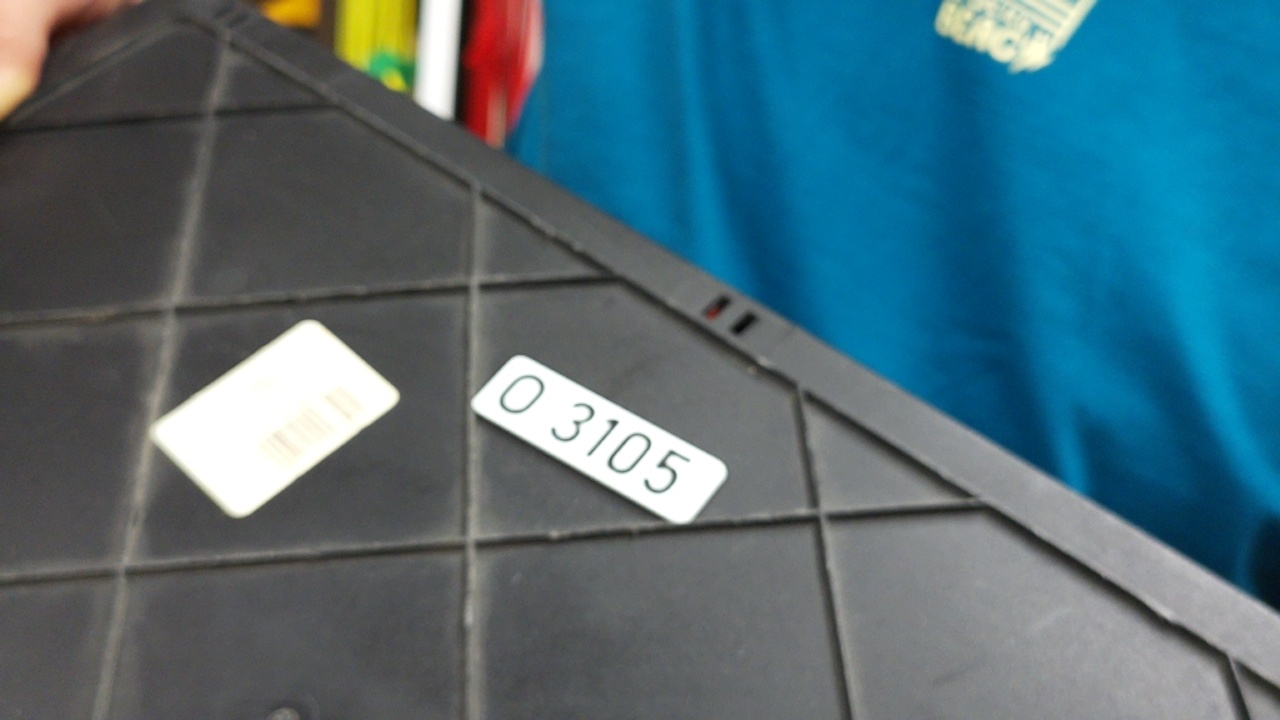license_plate: (467, 350, 733, 529)
